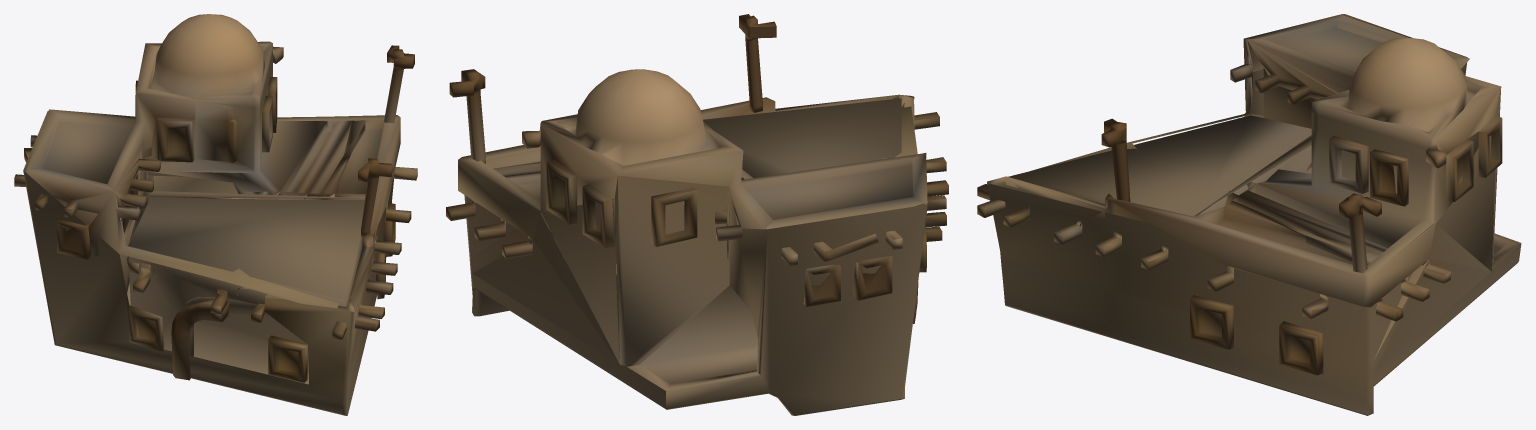
Rendered from building-1.fbx.
The picture shows the model from 3 angles, left to right: view 1: azimuth 30°, elevation 25°; view 2: azimuth 150°, elevation 25°; view 3: azimuth 270°, elevation 25°; orthographic projection. The views are drawn at different scales.
Parts seen in each view (by area): view 1: Adobe_Express_file_Three_dimensional_model_of_a_desert_buil.; view 2: Adobe_Express_file_Three_dimensional_model_of_a_desert_buil.; view 3: Adobe_Express_file_Three_dimensional_model_of_a_desert_buil..
Boxes of the visible parts, bbox=[...] form: Adobe_Express_file_Three_dimensional_model_of_a_desert_buil.: bbox=[14, 14, 417, 415]; Adobe_Express_file_Three_dimensional_model_of_a_desert_buil.: bbox=[446, 14, 948, 415]; Adobe_Express_file_Three_dimensional_model_of_a_desert_buil.: bbox=[977, 14, 1521, 415].
Bounding box in the file's own units: 3703 × 2326 × 3936.
